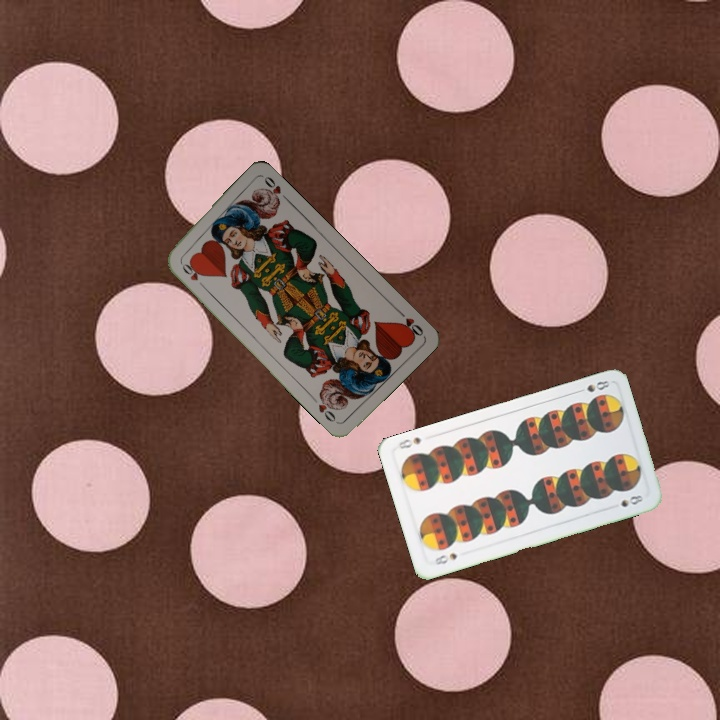HO: (394, 306, 426, 340), (176, 257, 207, 291)
S8: (572, 376, 612, 396), (431, 549, 460, 568)
